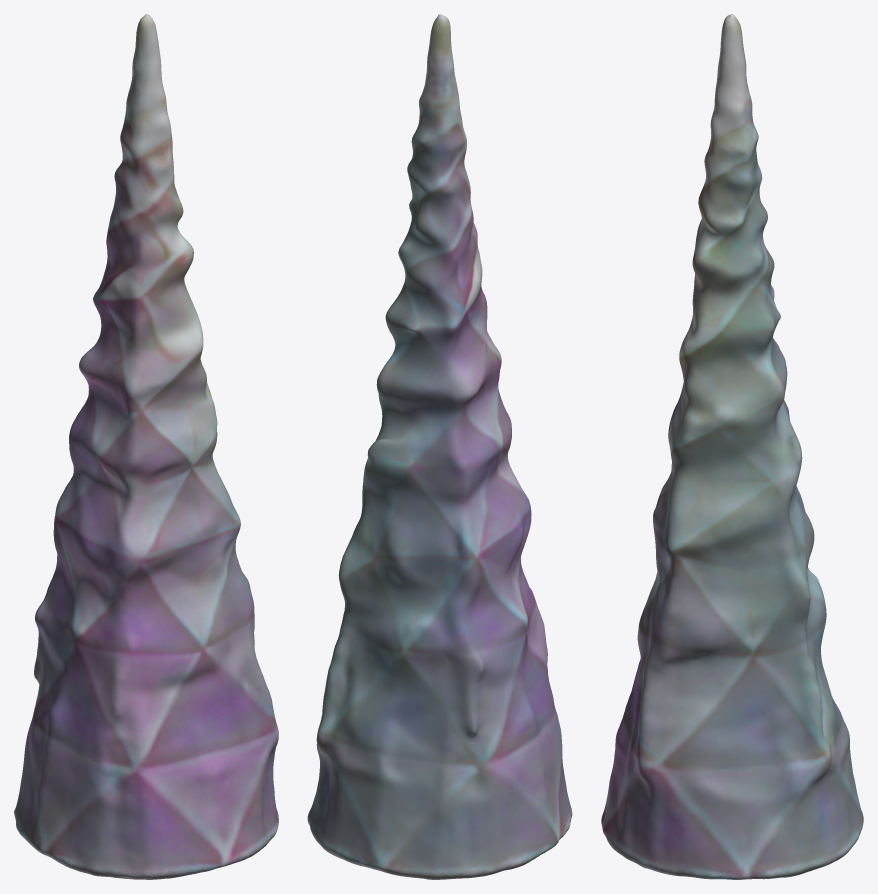
File: 685176a993d4_low_poly_unicorn_ho.fbx
3 views of the same model, side by side, from view 1: azimuth 30°, elevation 25°; view 2: azimuth 150°, elevation 25°; view 3: azimuth 270°, elevation 25° (orthographic).
Parts seen in each view (by area): view 1: high_poly; view 2: high_poly; view 3: high_poly.
Boxes of the visible parts, x1,y1,x2,y2 form: high_poly: (14, 14, 278, 879); high_poly: (307, 14, 572, 879); high_poly: (601, 14, 863, 879).
Bounding box in the file's own units: 28.93 × 100 × 29.02.
